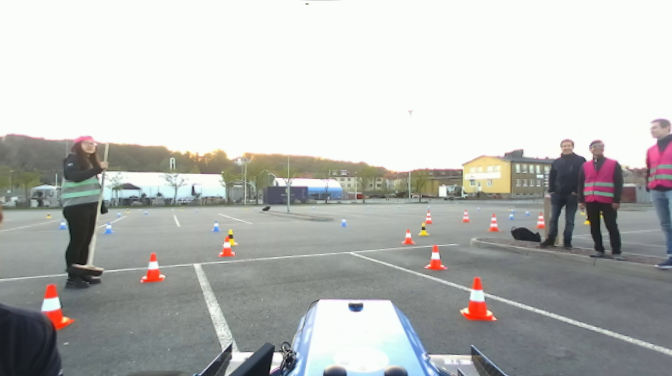blue: (57, 216, 68, 231), (103, 220, 114, 235), (210, 218, 221, 231), (339, 217, 348, 228)
orange: (31, 282, 75, 331), (458, 275, 497, 320), (139, 251, 166, 283), (424, 244, 446, 270), (219, 236, 235, 258), (401, 228, 415, 246)
orange2: (487, 211, 499, 233), (535, 210, 547, 229), (424, 208, 433, 225), (461, 208, 470, 224)
yellow: (223, 229, 239, 246), (418, 223, 429, 236)
